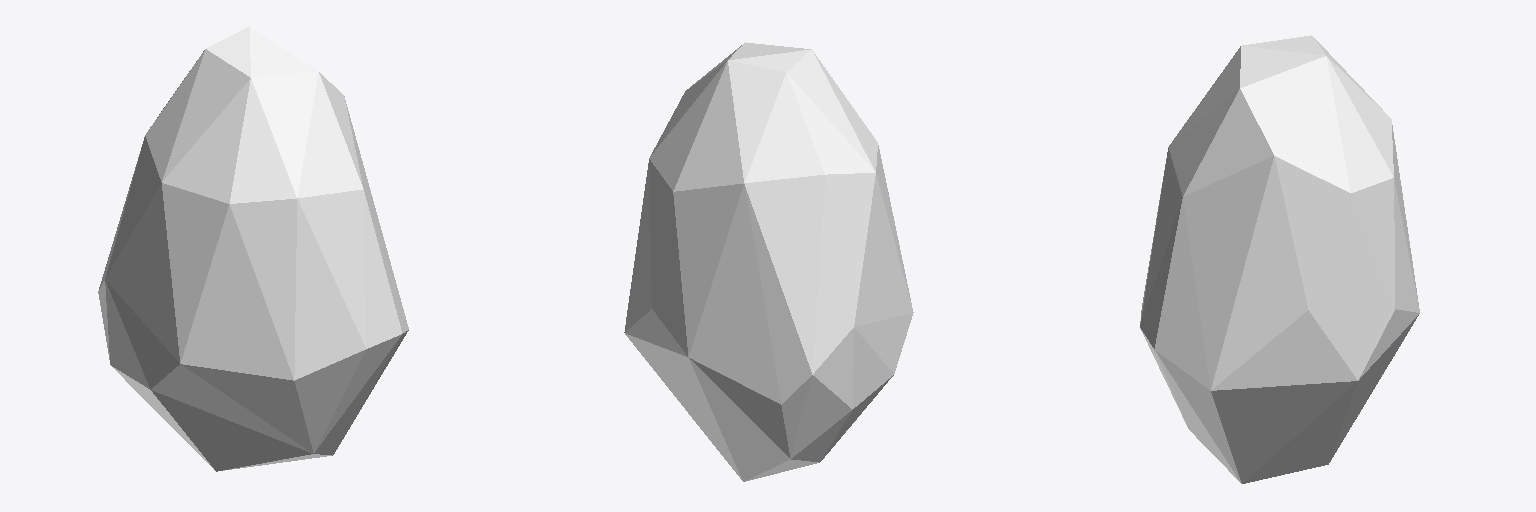
The picture shows the model from 3 angles: view 1: azimuth 30°, elevation 25°; view 2: azimuth 150°, elevation 25°; view 3: azimuth 270°, elevation 25°; orthographic projection.
Parts seen in each view (by area): view 1: Icosphere; view 2: Icosphere; view 3: Icosphere.
Part boxes in pixels (x1,y1,x2,y2): Icosphere: (98, 26, 408, 471); Icosphere: (624, 42, 913, 481); Icosphere: (1140, 35, 1419, 483).
Size of the model in its own units: 3.97 by 6.68 by 4.07.
1 materials, 1 textured.